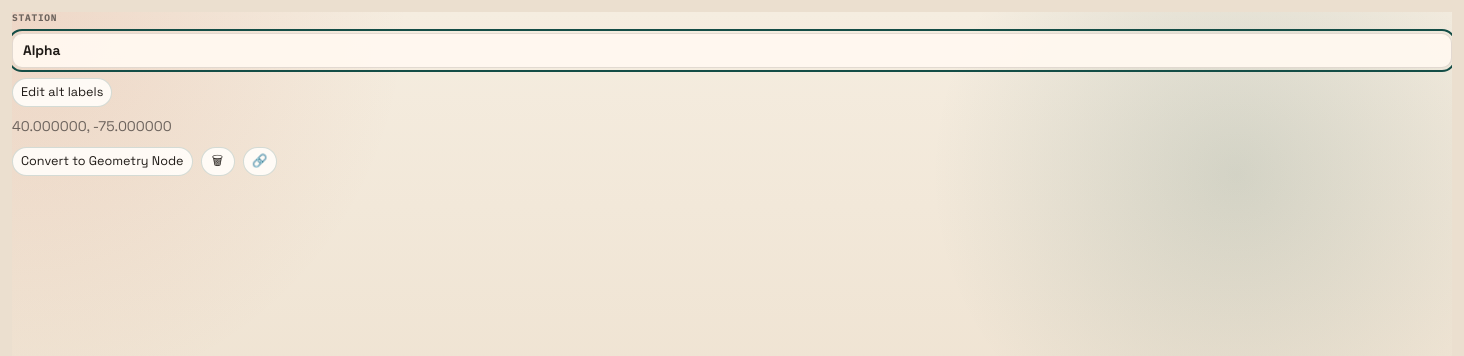
waypoint popup › reports copy failures
Click the button named "Copy waypoint line" at {"x": 260, "y": 161}, box [242, 147, 276, 176]
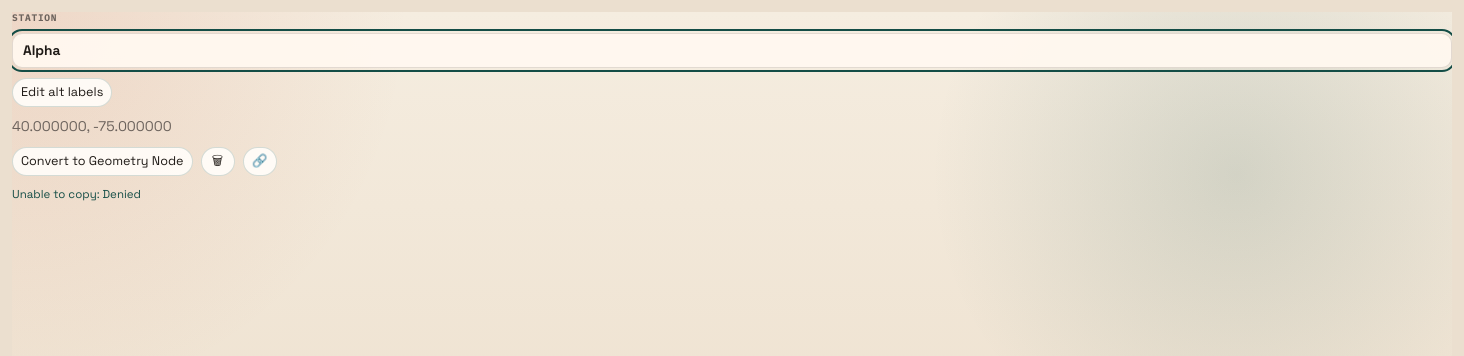
Expected: the message shows "Denied", [12, 187, 141, 201]
